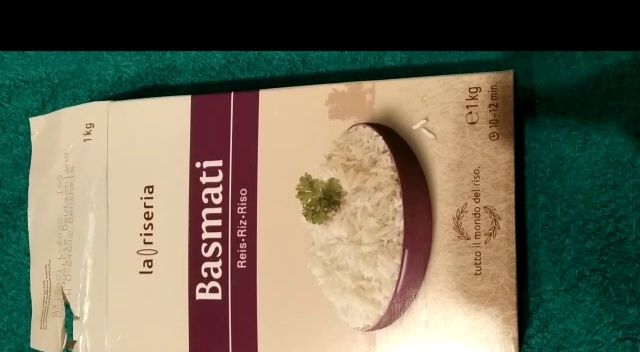basmati_rice: (20, 67, 525, 352)
